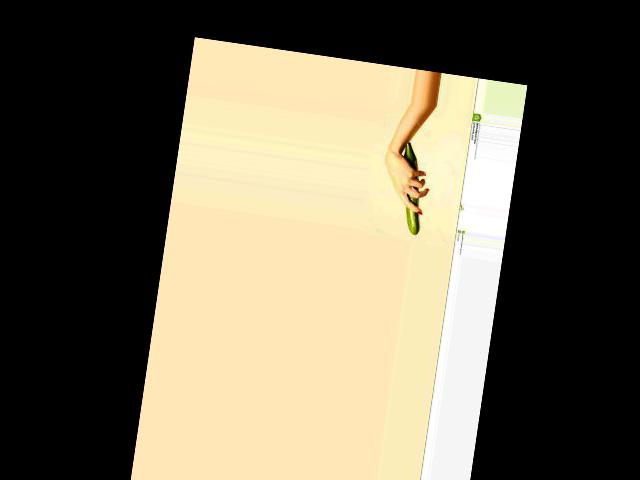cucumber: (394, 141, 432, 235)
